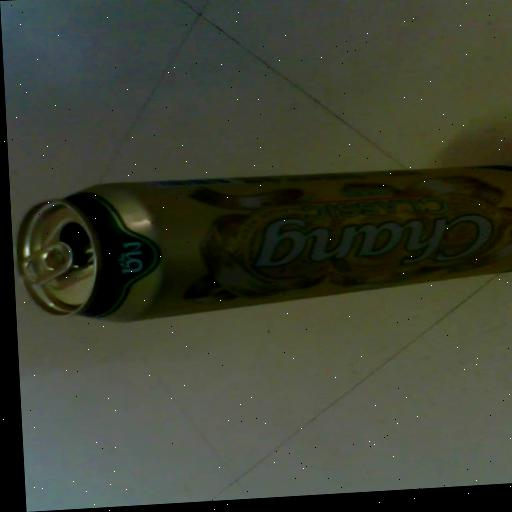canned: (9, 143, 512, 337)
